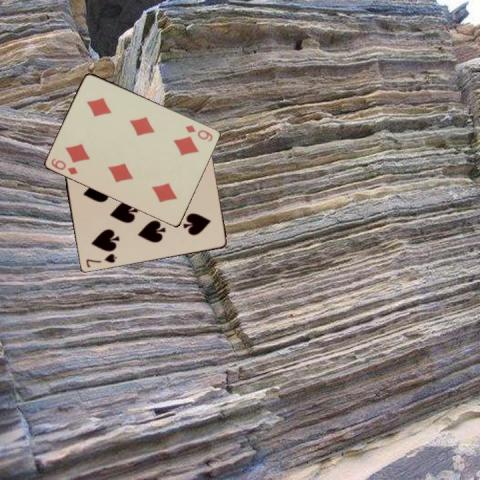6d: (182, 122, 214, 143), (48, 155, 79, 176)
7s: (83, 250, 118, 269)
